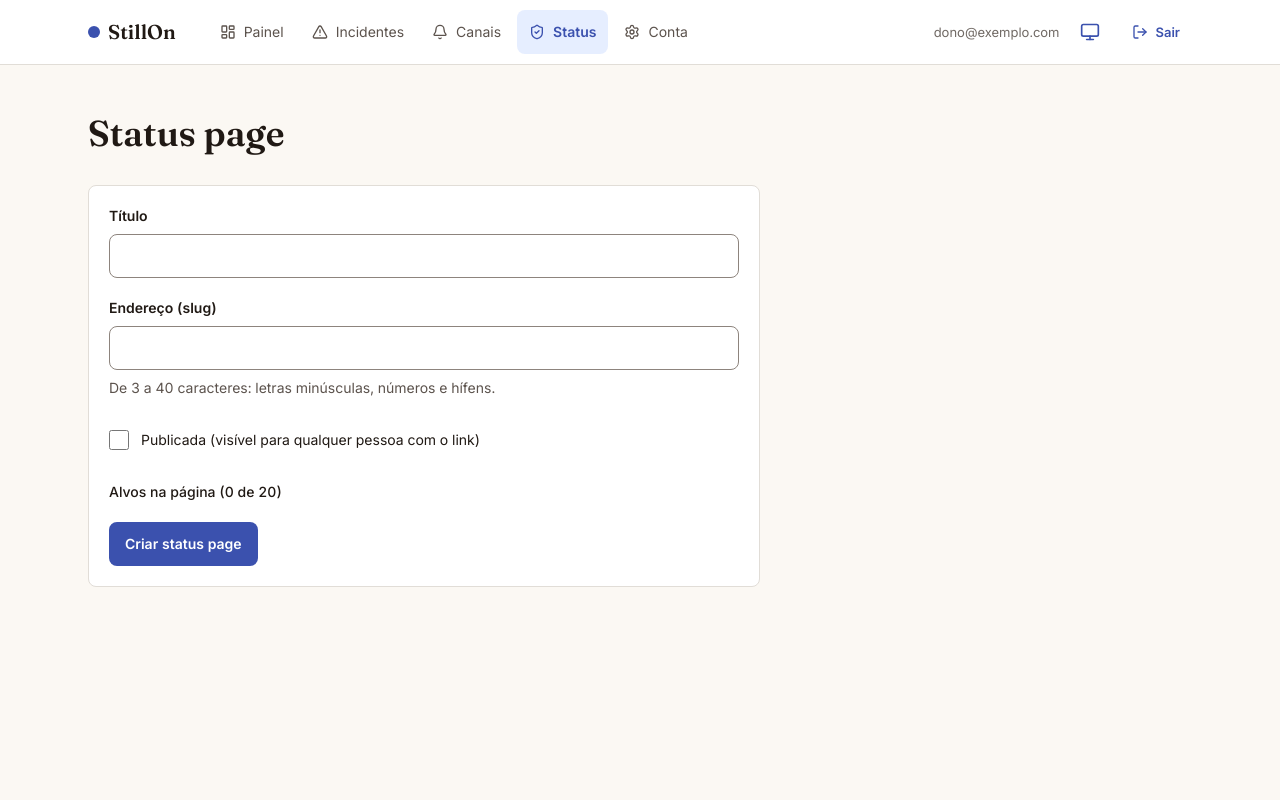
Test: status page › a sugestão curta demais não acusa erro no slug antes de a pessoa mexer nele
Type "A" into the field labelled "Título" at (424,256), box [109,234,739,278]
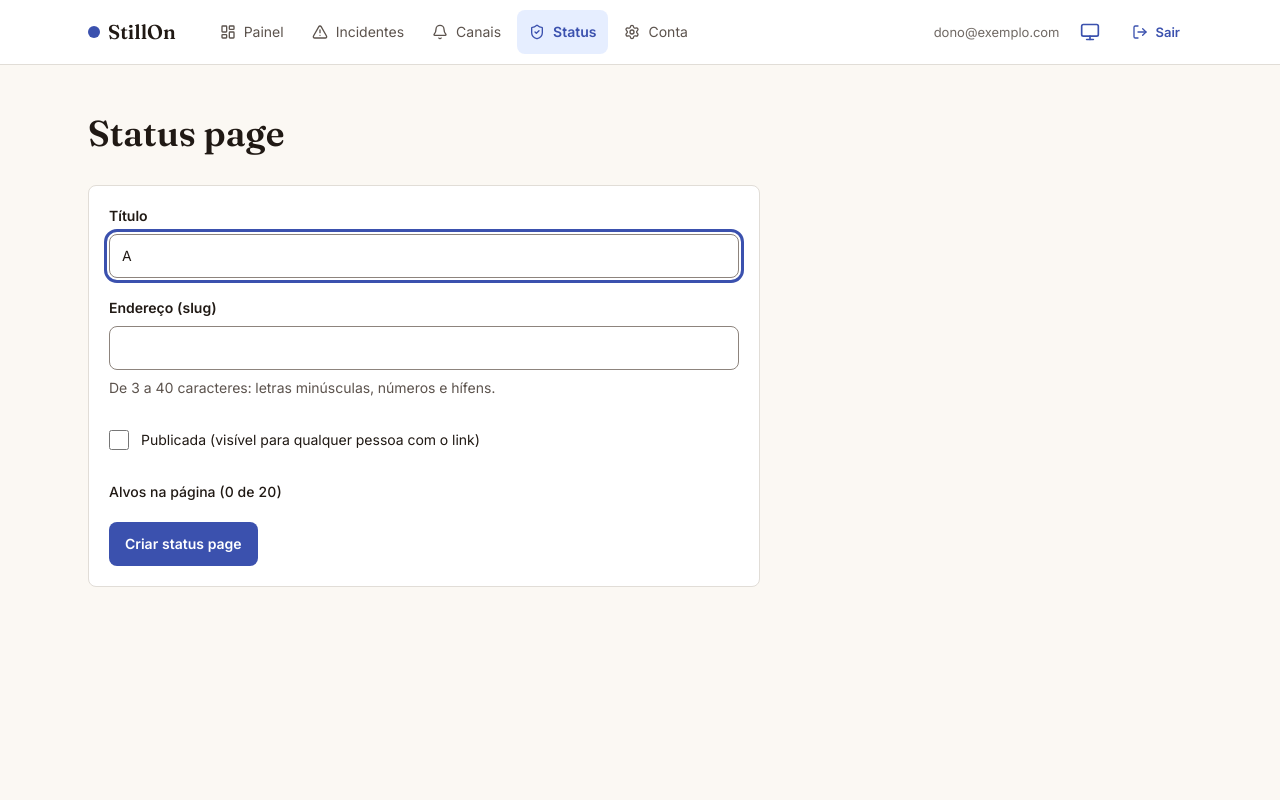
Press Tab
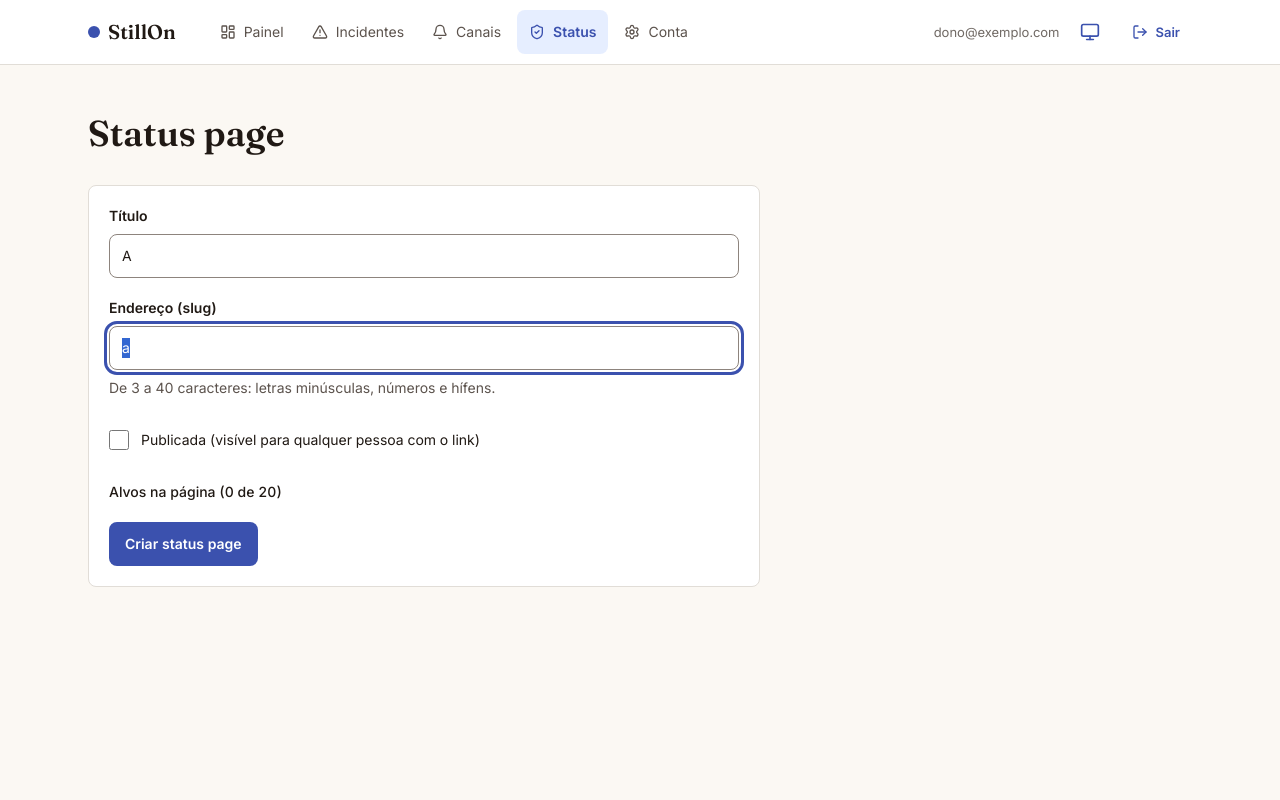
Expected: the field labelled "Endereço (slug)" holds "a", [109,326,739,370]
